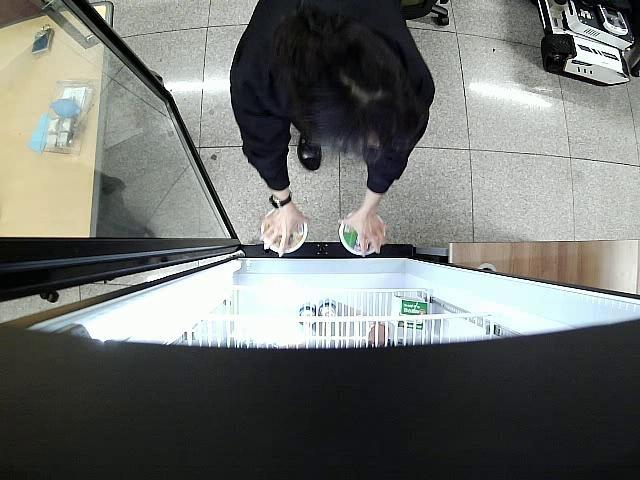09_yukGaeJang: (262, 206, 306, 253), (338, 212, 386, 253)
